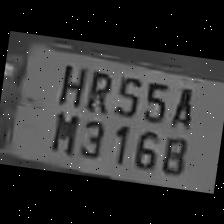1: (104, 116, 134, 168)
3: (74, 111, 108, 160)
5: (109, 70, 144, 118), (137, 76, 171, 124)
6: (128, 122, 163, 172)
8: (157, 129, 191, 177)
A: (164, 80, 198, 129)
H: (55, 56, 90, 108)
M: (46, 104, 80, 156)
R: (81, 64, 115, 112)
